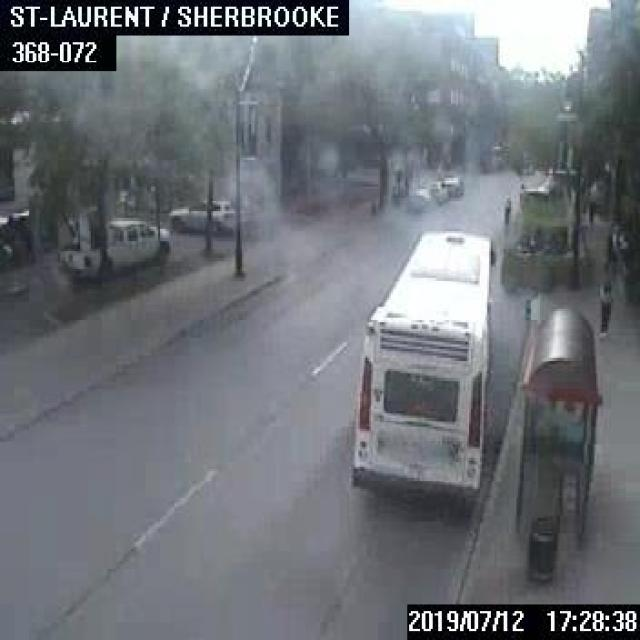bus: (349, 225, 493, 502)
pedestrian: (596, 280, 612, 333), (502, 193, 510, 231), (586, 198, 596, 226)
vehicle: (55, 216, 169, 278), (168, 195, 246, 231), (403, 185, 433, 211), (418, 178, 448, 202), (439, 174, 462, 196)
